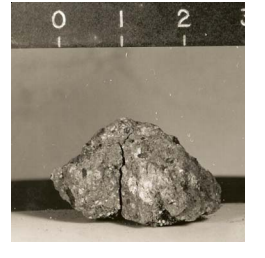Breccia: (88, 111, 197, 227)
